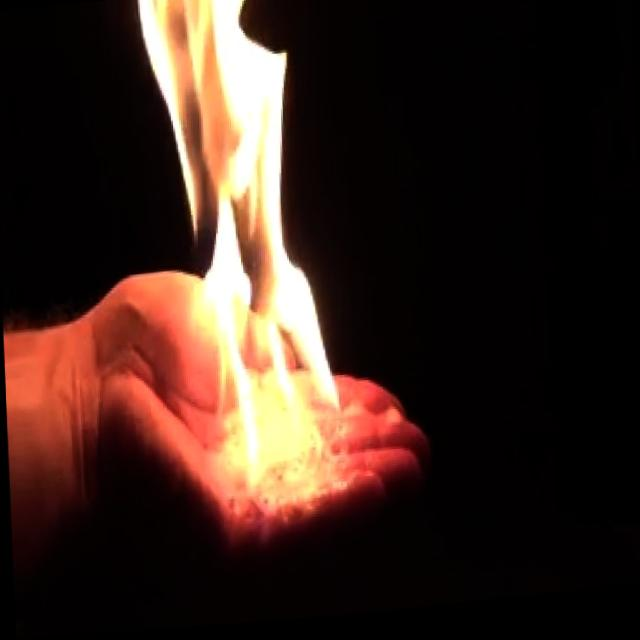Fire: (131, 0, 347, 500)
